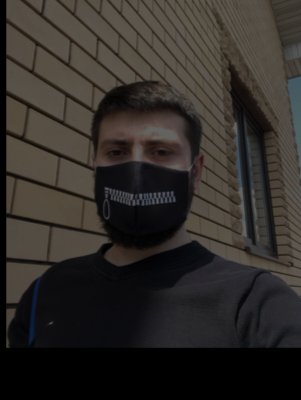with_mask: (89, 125, 194, 249)
